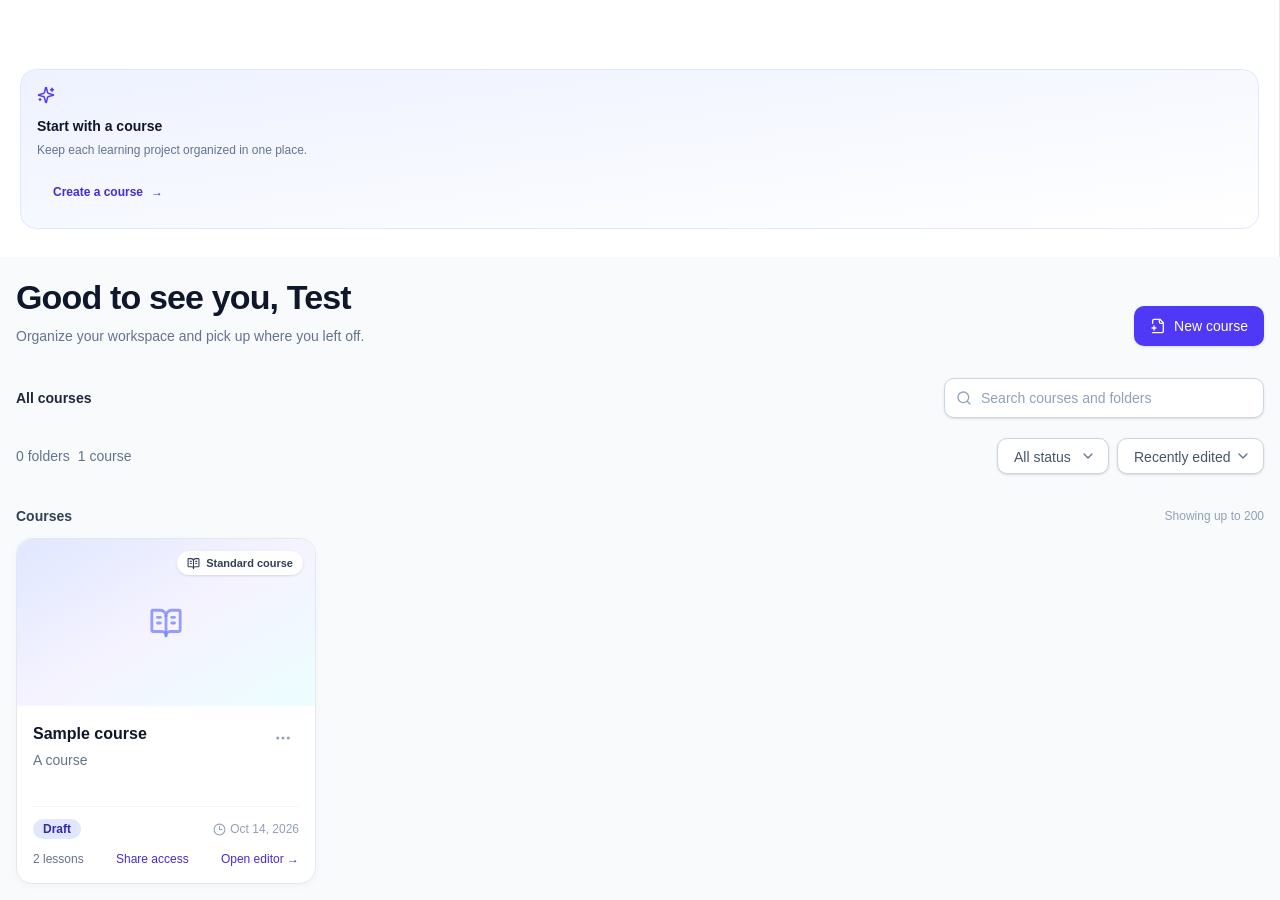
Test: dashboard loading and shared controls › shows matching skeletons and ignores an older filter response
(page scrolled)
Select "Published" in the dropdown named "Filter course status" at (1053, 456), box left=997, top=438, right=1109, bottom=474
Wait 180 ms
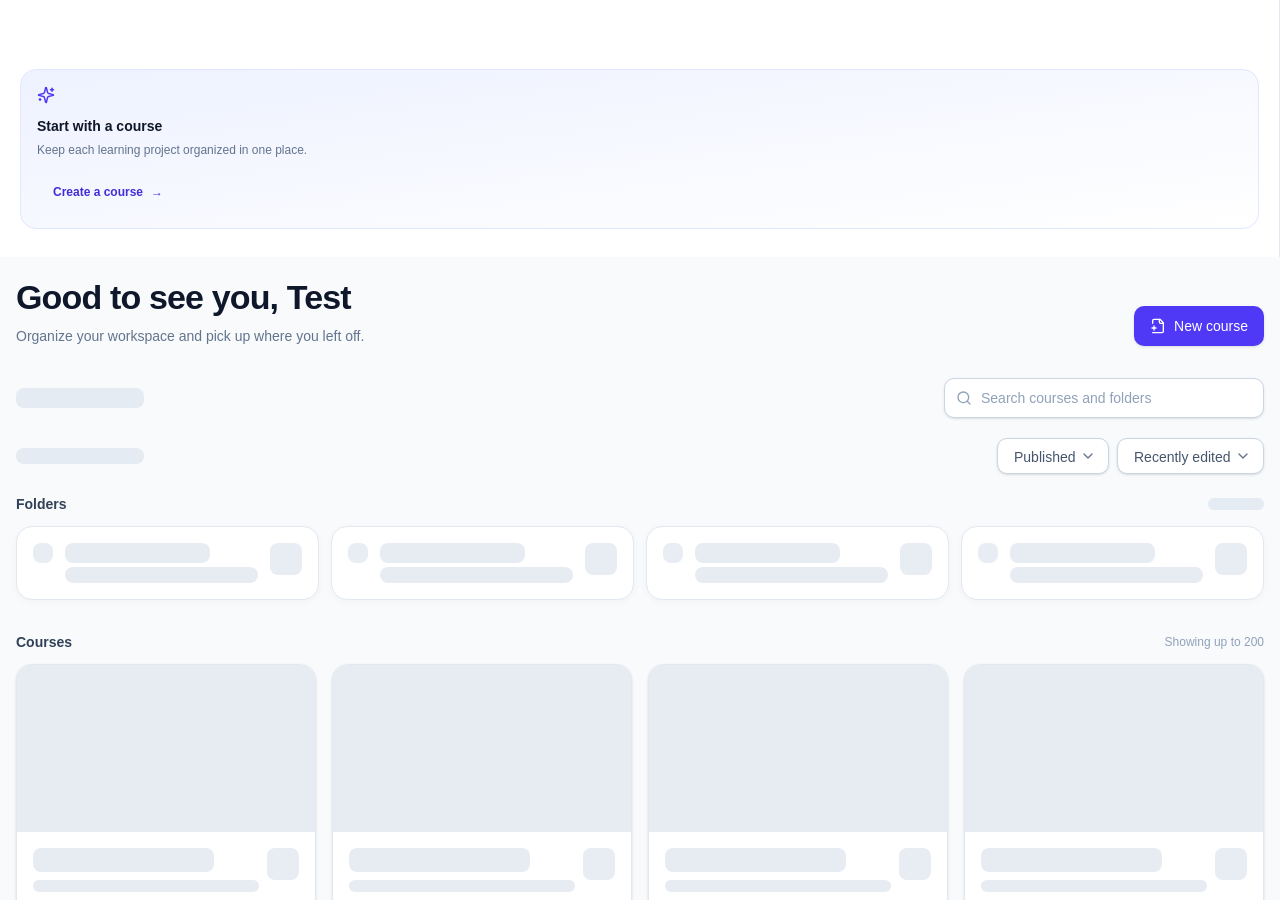
Expected: the element named "Loading folders" is shown, left=16, top=494, right=1264, bottom=600
Expected: the text "Sample course" is gone
Select "Date created" in the dropdown named "Sort courses" at (1190, 456), box left=1117, top=438, right=1264, bottom=474
Wait 180 ms
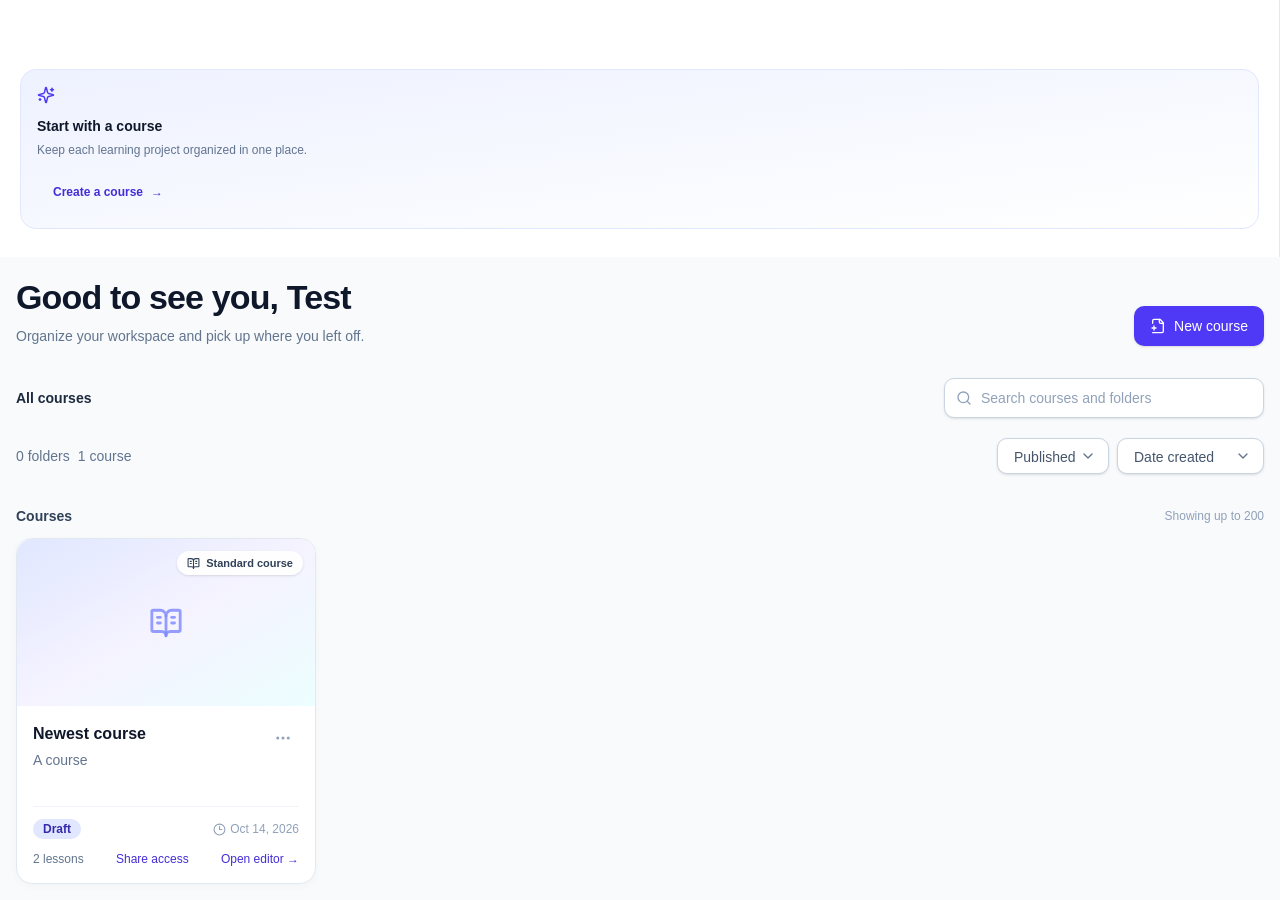
Expected: the text "Sample course" is not shown
Expected: the text "Newest course" is shown, left=33, top=725, right=146, bottom=742
